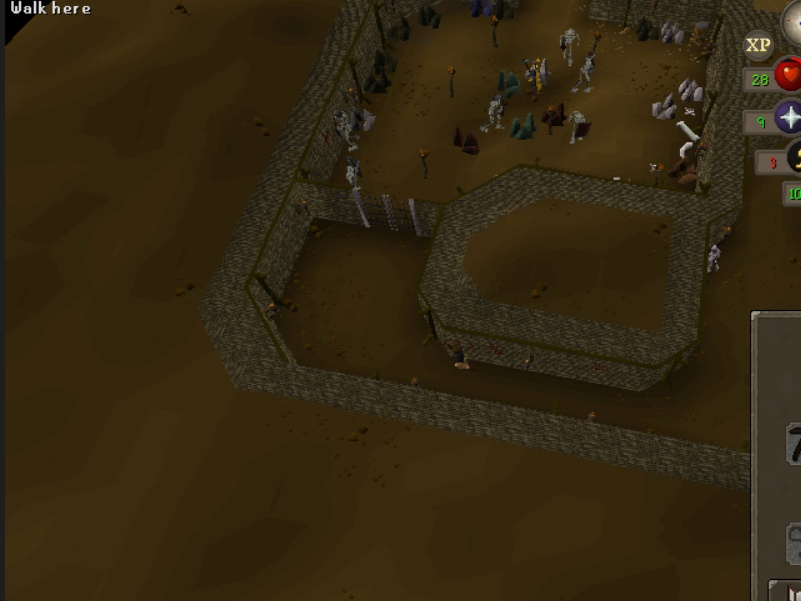adamant: (507, 108, 538, 145), (494, 66, 525, 103)
coal: (632, 15, 663, 44), (415, 3, 446, 32), (385, 14, 416, 43), (361, 71, 392, 100), (369, 46, 400, 75), (494, 1, 524, 23)
copper: (666, 155, 700, 188)
iron: (449, 123, 482, 157), (538, 98, 571, 132)
mithril: (467, 1, 494, 23)
silver: (648, 91, 680, 122), (526, 56, 558, 87), (676, 75, 708, 106)
tin: (348, 106, 380, 134), (661, 18, 686, 44)
